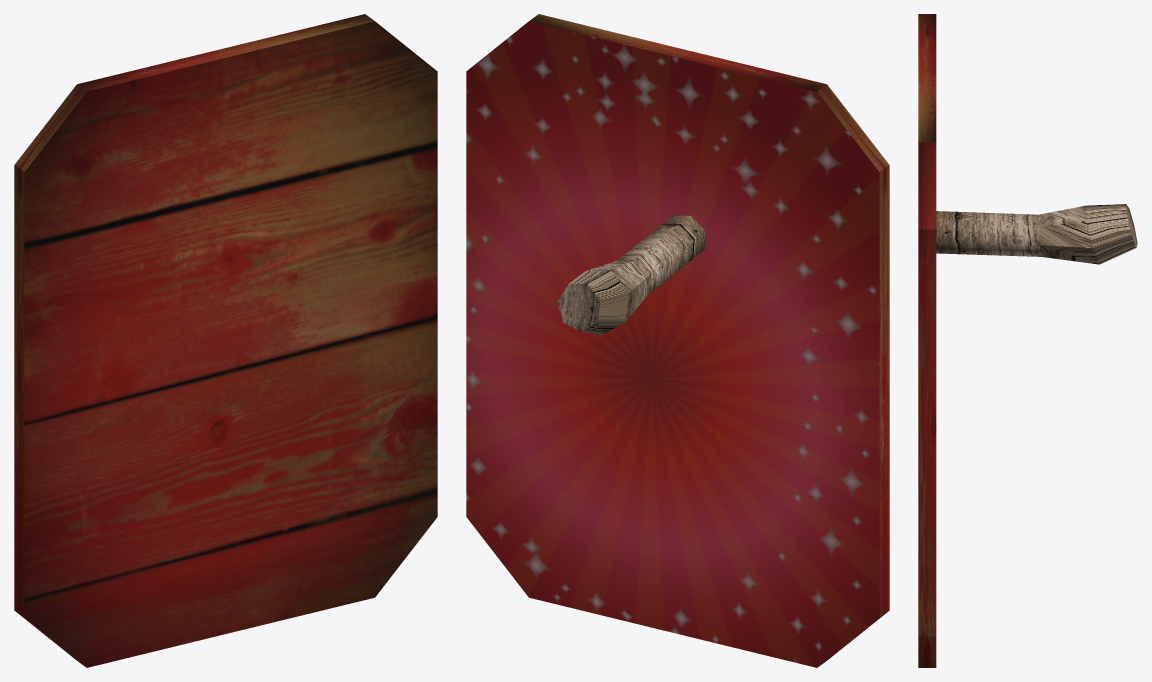
File: Key Holder.FBX
3 renders of one model, left to right at view 1: azimuth 30°, elevation 25°; view 2: azimuth 150°, elevation 25°; view 3: azimuth 270°, elevation 25°, orthographic. The views are drawn at different scales.
Parts seen in each view (by area): view 1: Cylinder001; view 2: Cylinder001; view 3: Cylinder001.
Boxes of the visible parts, x1,y1,x2,y2 form: Cylinder001: (14,14,437,667); Cylinder001: (466,14,889,667); Cylinder001: (918,14,1137,667).
Bounding box in the file's own units: 60 × 80 × 30.24.
1 material, 1 textured.
